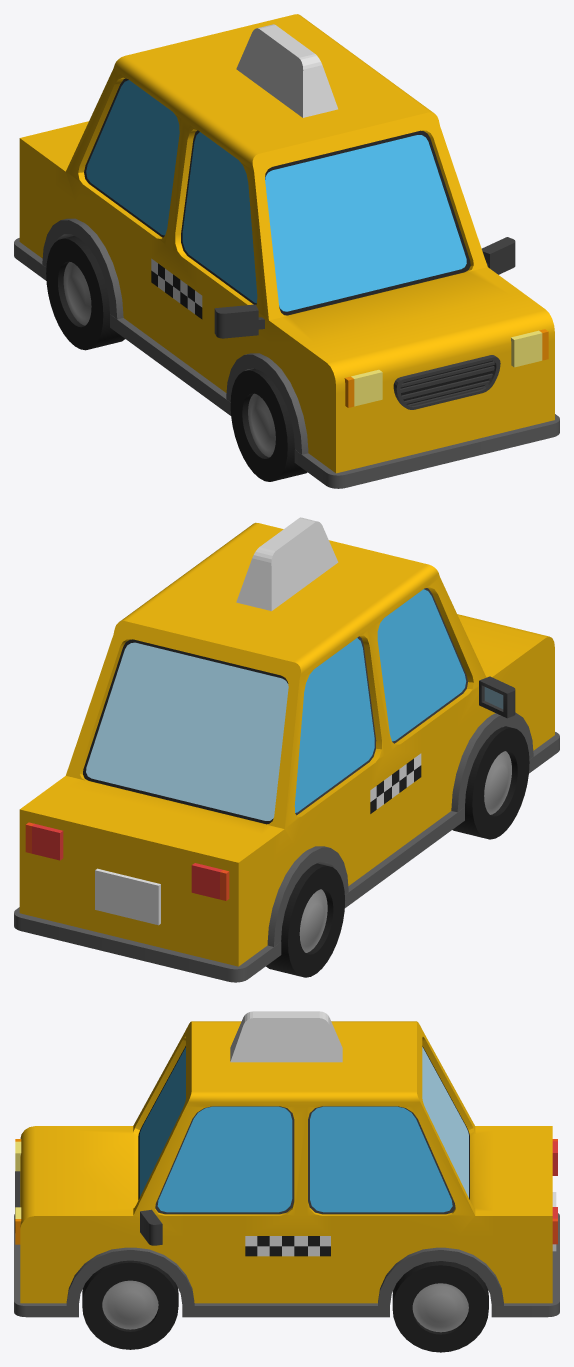
File: oncoming_taxi.fbx
3 views of the same model, one above another, from view 1: azimuth 30°, elevation 25°; view 2: azimuth 150°, elevation 25°; view 3: azimuth 270°, elevation 25° (orthographic). The views are drawn at different scales.
Parts seen in each view (by area): view 1: Cube.667; view 2: Cube.667; view 3: Cube.667.
Part boxes in pixels (box(x1,y1,x2,y2)): Cube.667: box(14, 14, 559, 488); Cube.667: box(14, 517, 559, 982); Cube.667: box(14, 1011, 559, 1352).
Size of the model in its own units: 190 by 209 by 359.
Materials: 1 (1 with a texture image).
